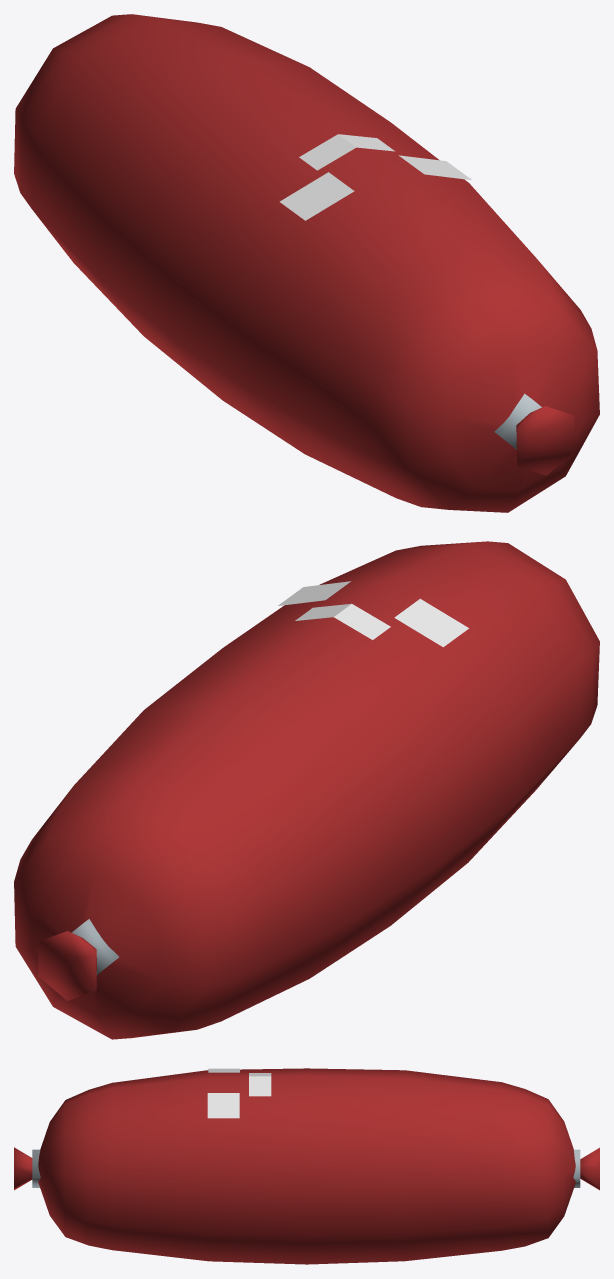
Rendered from sasuage_smile.fbx.
3 renders of one model, top to bottom at view 1: azimuth 30°, elevation 25°; view 2: azimuth 150°, elevation 25°; view 3: azimuth 270°, elevation 25°, orthographic. The views are drawn at different scales.
Visible parts, largest first — view 1: sasuage_smile; view 2: sasuage_smile; view 3: sasuage_smile.
Boxes of the visible parts, box(x1,y1,x2,y2) form: sasuage_smile: box(14, 14, 599, 512); sasuage_smile: box(14, 541, 599, 1039); sasuage_smile: box(14, 1068, 599, 1264).
Bounding box in the file's own units: 52.33 × 54.94 × 161.
2 materials, 1 textured.
